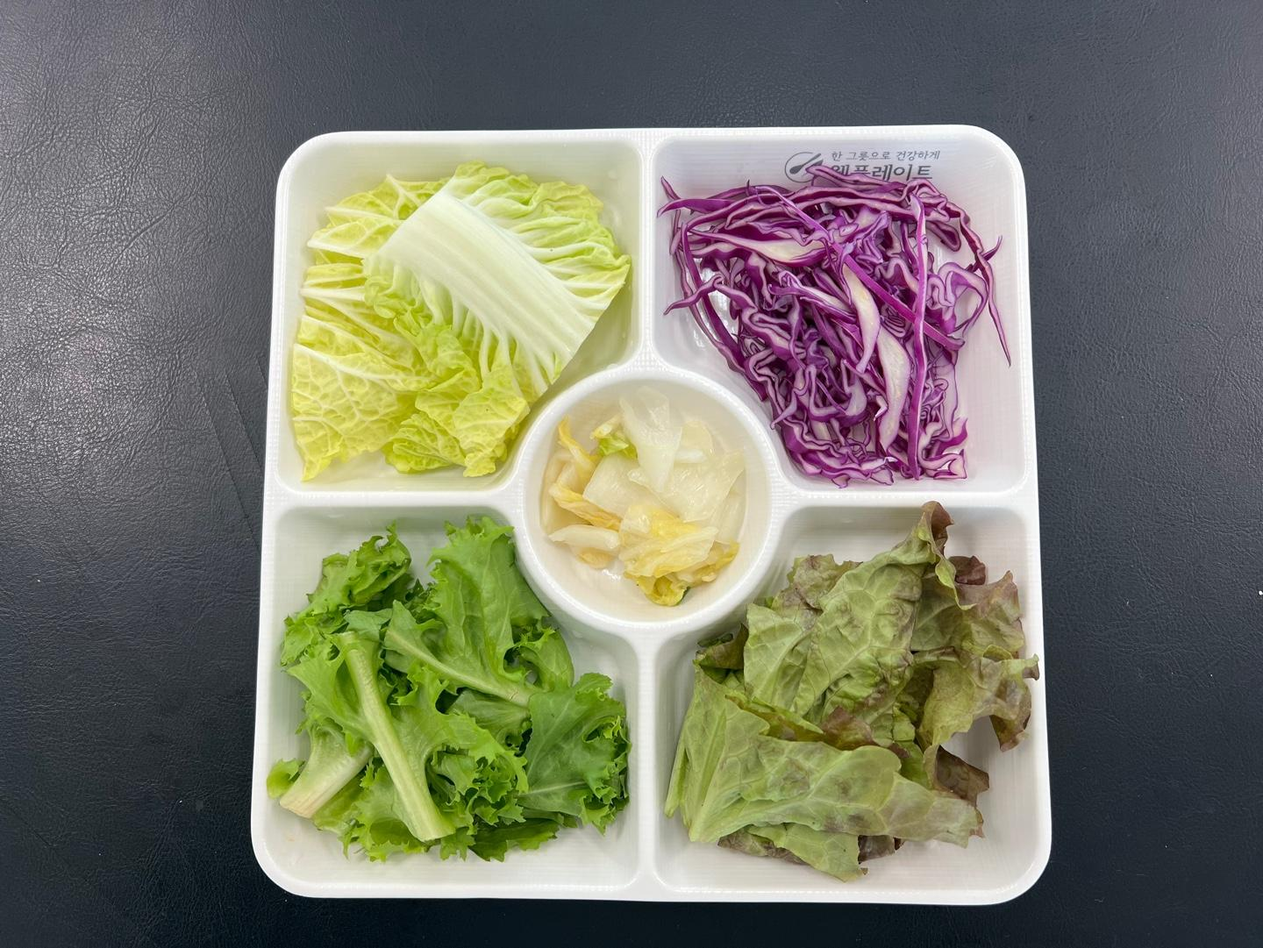food: (668, 507, 1032, 871), (278, 516, 631, 863), (677, 532, 1026, 864), (289, 162, 637, 482), (664, 160, 995, 488), (285, 558, 627, 861), (287, 158, 621, 441), (684, 159, 972, 463), (541, 392, 748, 609), (554, 403, 747, 602)
